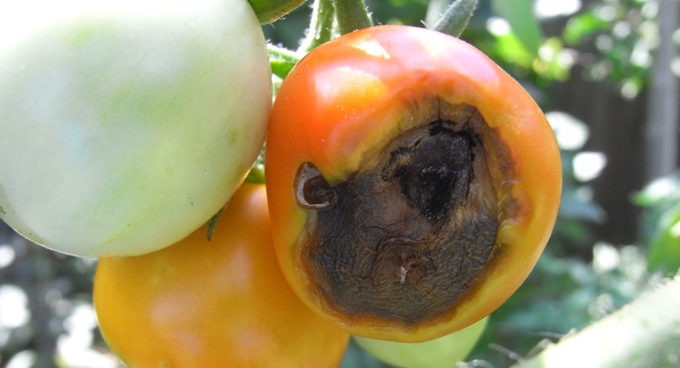blossom_rotw: (302, 80, 529, 322)
